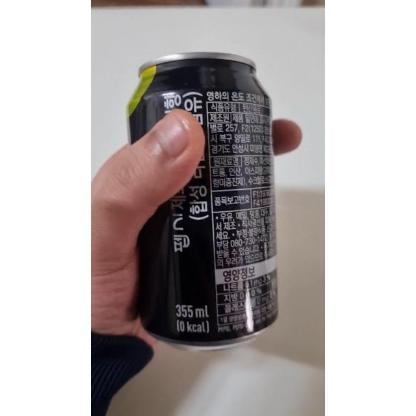Can: (127, 51, 277, 351)
